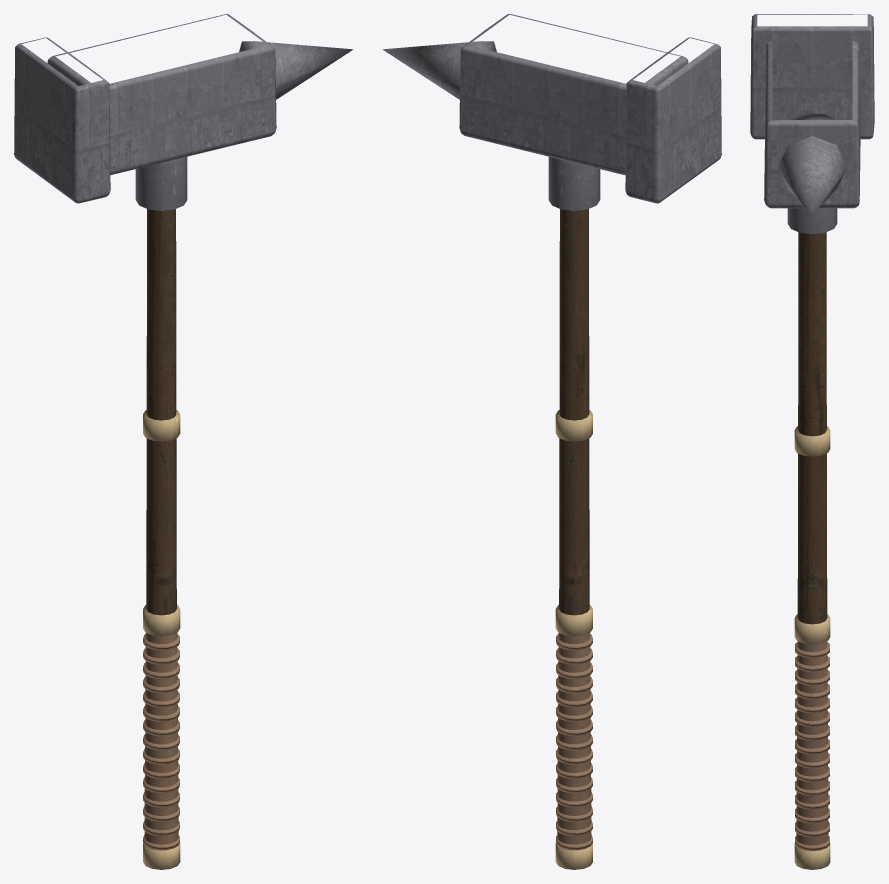
File: g_hammer_2h.glb
3 renders of one model, left to right at view 1: azimuth 30°, elevation 25°; view 2: azimuth 150°, elevation 25°; view 3: azimuth 270°, elevation 25°, orthographic. The views are drawn at different scales.
Parts seen in each view (by area): view 1: g_hammer_2h; view 2: g_hammer_2h; view 3: g_hammer_2h.
Part boxes in pixels (x1,y1,x2,y2): g_hammer_2h: [14, 14, 353, 869]; g_hammer_2h: [382, 14, 721, 869]; g_hammer_2h: [750, 14, 874, 869].
Bounding box in the file's own units: 0.3632 × 0.9225 × 0.1307.
Materials: 4 (4 with a texture image).
